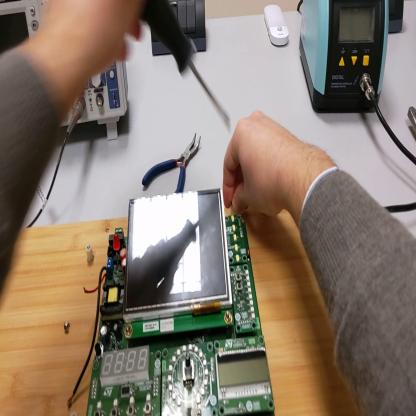hand: (36, 2, 150, 85), (223, 110, 305, 225)
low voltage board: (67, 187, 276, 415)
oscilloscope: (2, 2, 131, 144)
pliers: (142, 131, 204, 192), (407, 105, 416, 135)
screwdriver-: (140, 1, 231, 126)
socket: (388, 2, 405, 36)
welder station: (299, 2, 390, 117)
working area: (2, 198, 357, 415)
